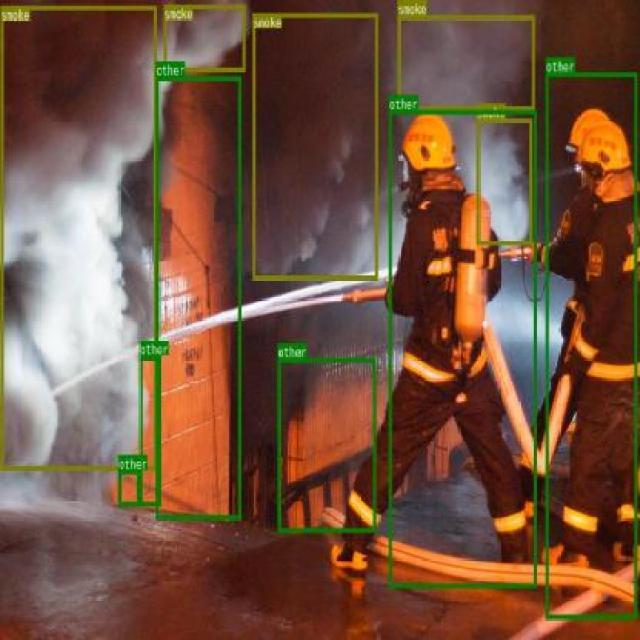Smoke: (0, 4, 156, 470), (252, 12, 377, 278), (397, 15, 534, 110), (476, 118, 532, 244), (164, 4, 244, 72)
